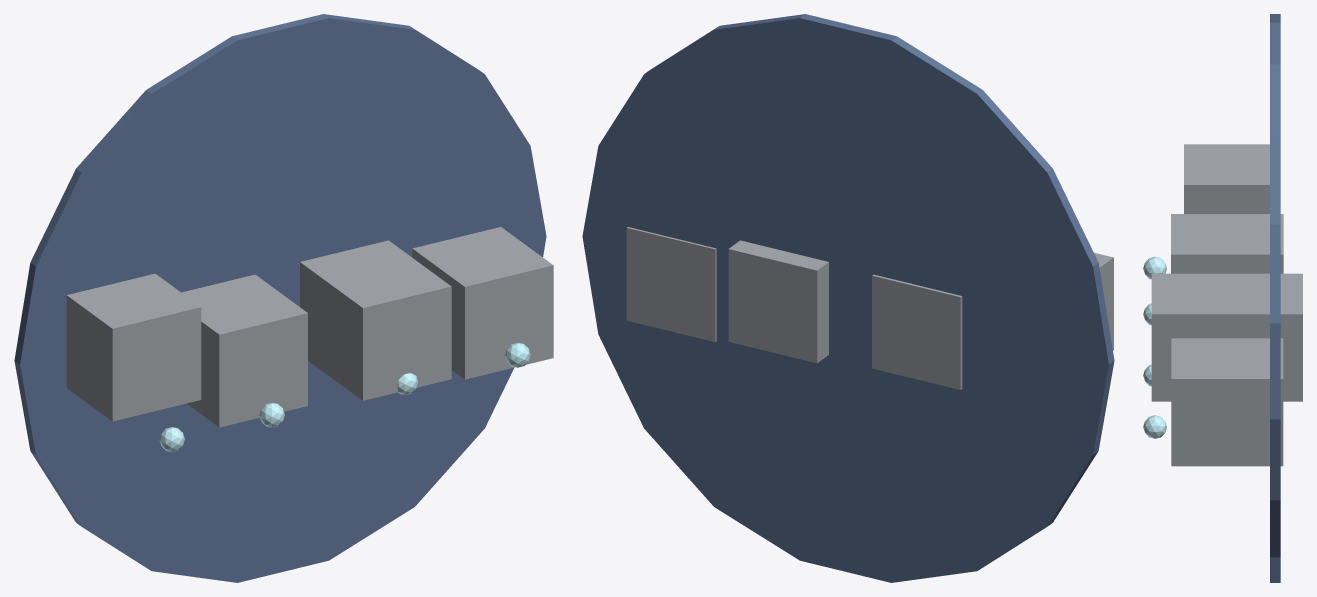
The model's file is 02_local_prop_cluster.glb.
The picture shows the model from 3 angles, left to right: view 1: azimuth 30°, elevation 25°; view 2: azimuth 150°, elevation 25°; view 3: azimuth 270°, elevation 25°; orthographic projection. The views are drawn at different scales.
Parts seen in each view (by area): view 1: scatter_base, tech_crate_2, tech_crate_0, tech_crate_3, tech_crate_1; view 2: scatter_base, tech_crate_2, tech_crate_1, tech_crate_3, tech_crate_0; view 3: tech_crate_3, tech_crate_2, scatter_base, tech_crate_1, tech_crate_0, status_light_3, status_light_0.
Part boxes in pixels (x1,y1,x2,y2): scatter_base: [14, 14, 546, 582]; tech_crate_2: [300, 240, 451, 400]; tech_crate_0: [66, 273, 201, 421]; tech_crate_3: [412, 227, 553, 379]; tech_crate_1: [181, 274, 307, 427]; scatter_base: [582, 14, 1114, 582]; tech_crate_2: [728, 240, 828, 363]; tech_crate_1: [872, 274, 962, 389]; tech_crate_3: [626, 227, 716, 341]; tech_crate_0: [1094, 252, 1113, 350]; tech_crate_3: [1171, 338, 1283, 466]; tech_crate_2: [1151, 273, 1302, 401]; scatter_base: [1270, 14, 1280, 582]; tech_crate_1: [1171, 214, 1283, 273]; tech_crate_0: [1184, 144, 1269, 213]; status_light_3: [1143, 415, 1166, 438]; status_light_0: [1143, 256, 1166, 279].
Bounding box in the file's own units: 1.9 × 1.87 × 0.5313.
